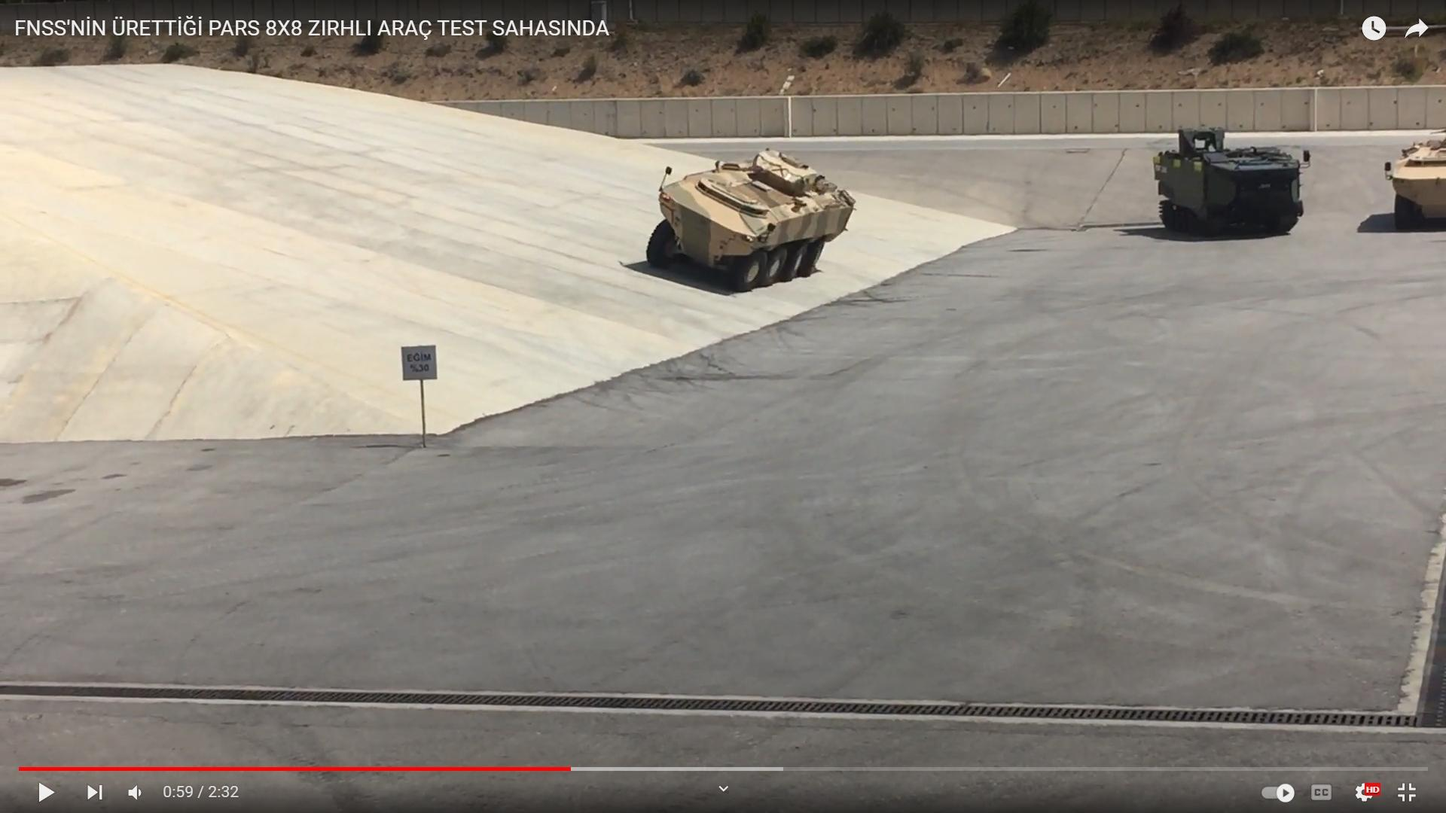armored_car: (647, 149, 858, 295), (1387, 135, 1446, 231)
